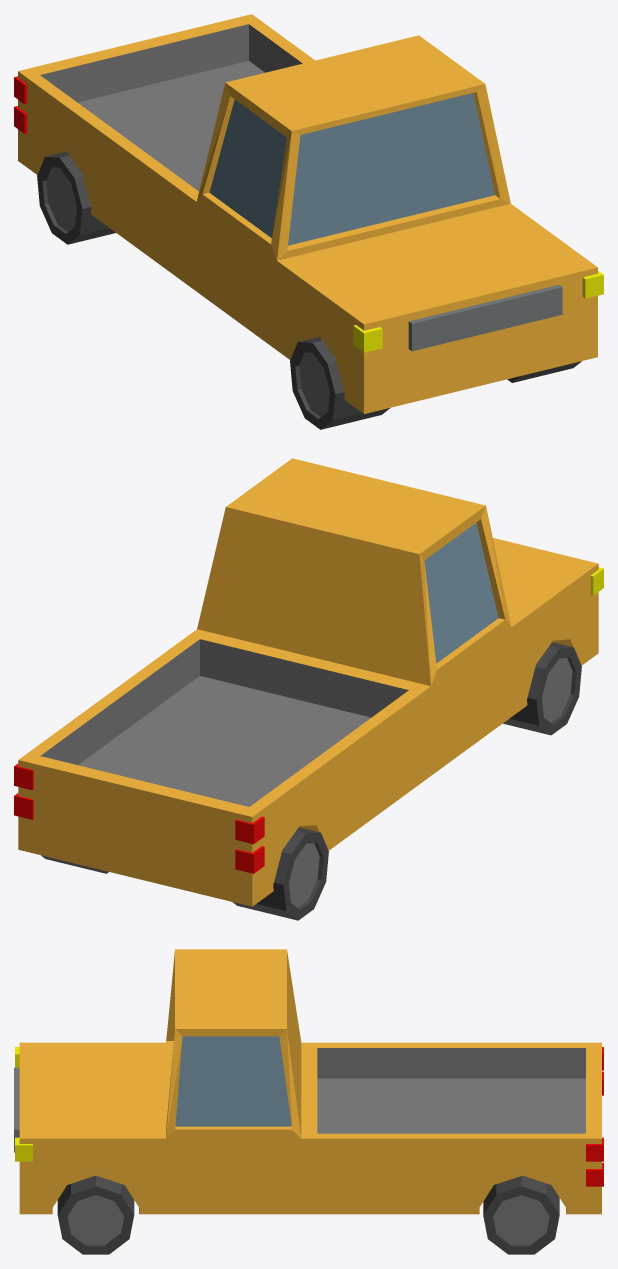
File: Vehicle_Truck.fbx
3 renders of one model, top to bottom at view 1: azimuth 30°, elevation 25°; view 2: azimuth 150°, elevation 25°; view 3: azimuth 270°, elevation 25°, orthographic. The views are drawn at different scales.
Visible parts, largest first — view 1: Vehicle_Truck; view 2: Vehicle_Truck; view 3: Vehicle_Truck.
Part boxes in pixels (x1,y1,x2,y2): Vehicle_Truck: (14, 14, 603, 429); Vehicle_Truck: (14, 458, 603, 920); Vehicle_Truck: (14, 949, 603, 1254).
Size of the model in its own units: 251 by 239 by 602.
